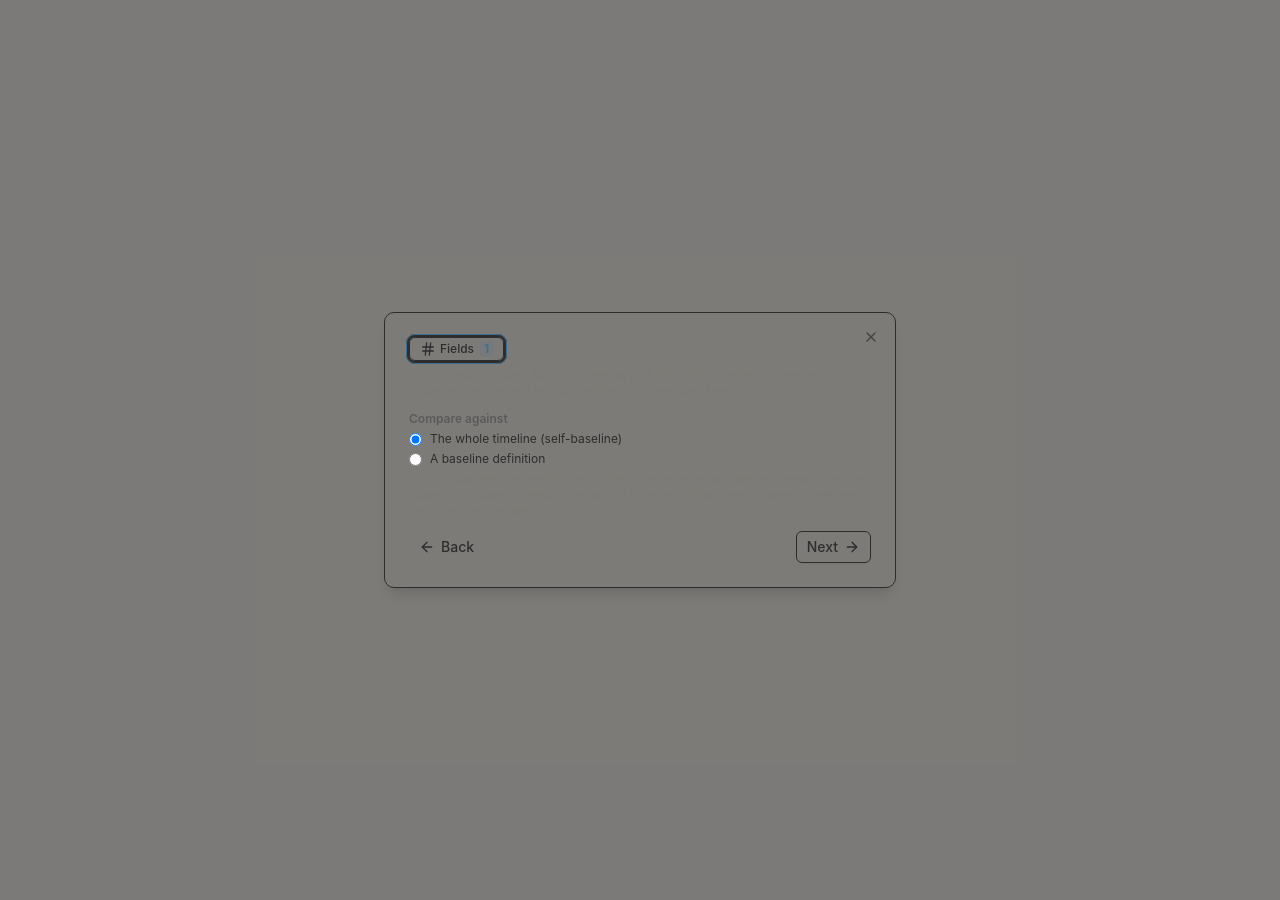
Test: DetectorWizard › opens in edit mode on a configured method
This screenshot has width=1280, height=900.
Expected: the element with test id "wizard-step-configure" is shown, x1=409 y1=337 x2=871 y2=563
Click the button with test id "wizard-next". click: (833, 547)
box: x1=796 y1=531 x2=871 y2=563
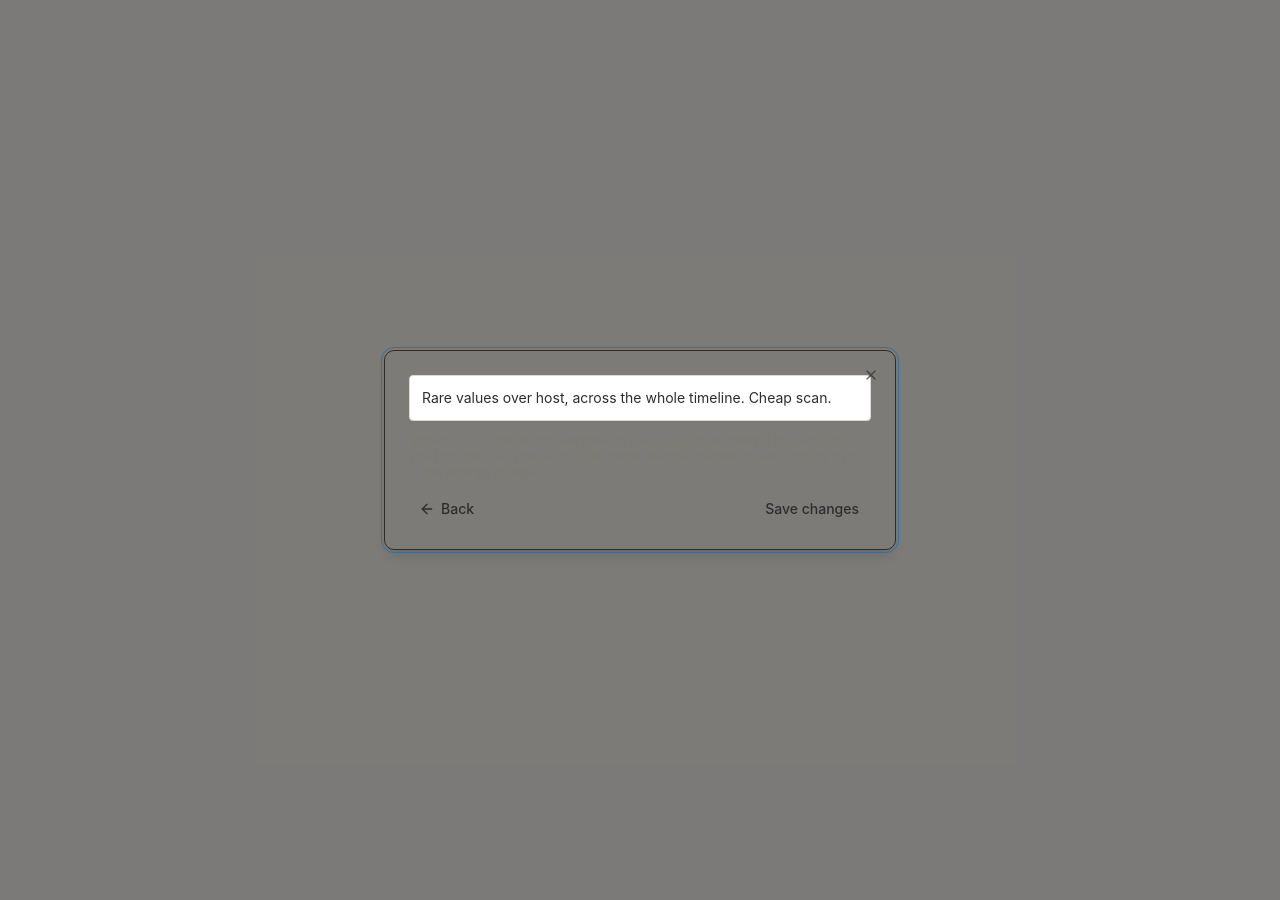
Now the text with test id "wizard-apply-label" reads "Save changes", box x1=765 y1=500 x2=859 y2=517
